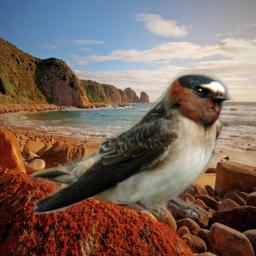Swallow: (27, 67, 238, 223)
